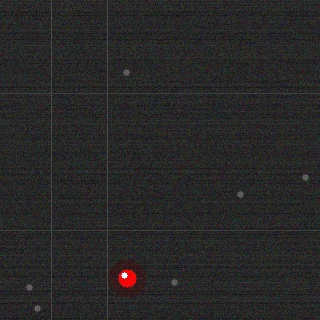red_fault: (116, 267, 138, 289)
